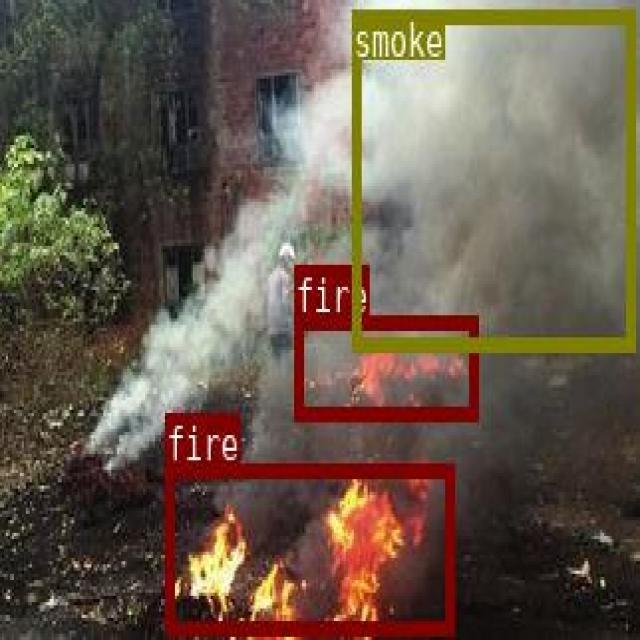fire: (164, 462, 453, 631), (293, 315, 476, 419)
smoke: (352, 8, 633, 349)
